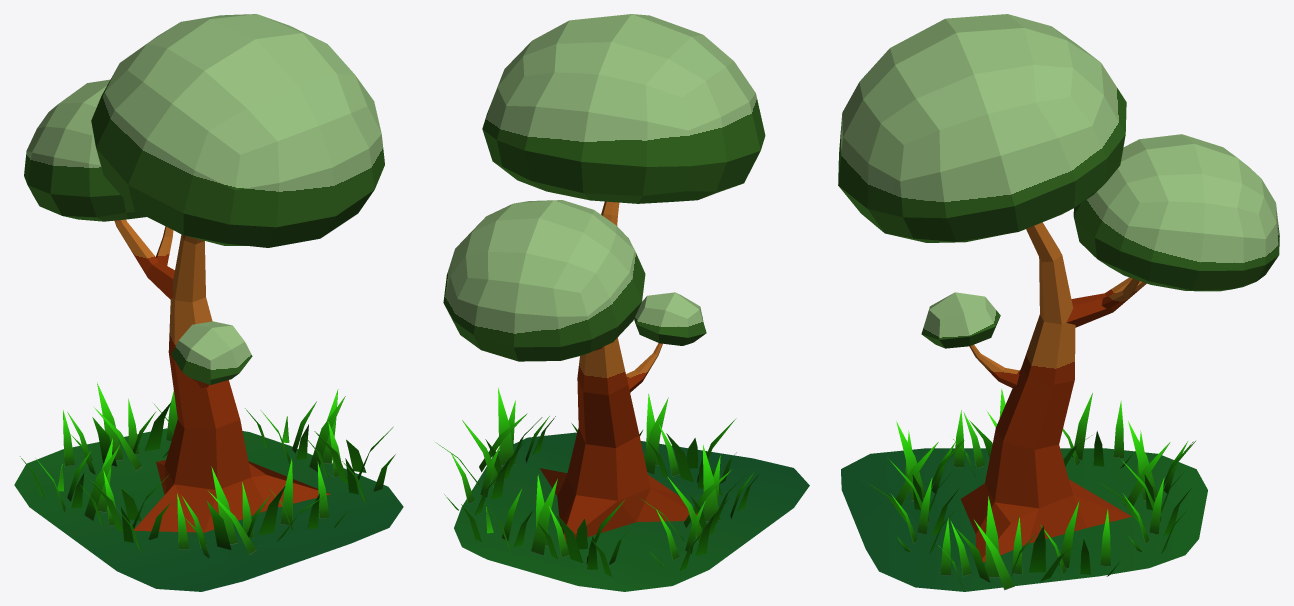
Rendered from Tree1.glb.
The picture shows the model from 3 angles, left to right: view 1: azimuth 30°, elevation 25°; view 2: azimuth 150°, elevation 25°; view 3: azimuth 270°, elevation 25°; orthographic projection. The views are drawn at different scales.
Visible parts, largest first — view 1: Tree1; view 2: Tree1; view 3: Tree1.
Boxes of the visible parts, bbox=[...] form: Tree1: bbox=[14, 14, 403, 591]; Tree1: bbox=[435, 14, 809, 591]; Tree1: bbox=[838, 14, 1279, 591].
Size of the model in its own units: 0.9575 by 1.48 by 1.2.
2 materials, 2 textured.
